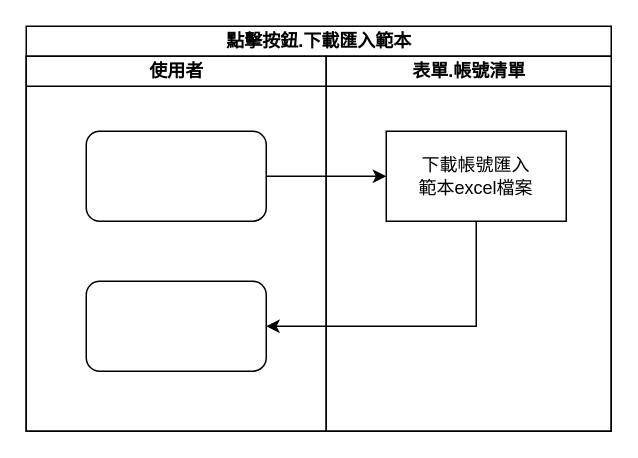
The diagram is 638 pixels wide and 458 high, and some of its shapes have lost their labels. The centre of each missing label's shape, as x and y in pixels:
"執行結束" goes at point (175, 325).
"點擊 按鈕.下載匯入範本" goes at point (175, 175).
